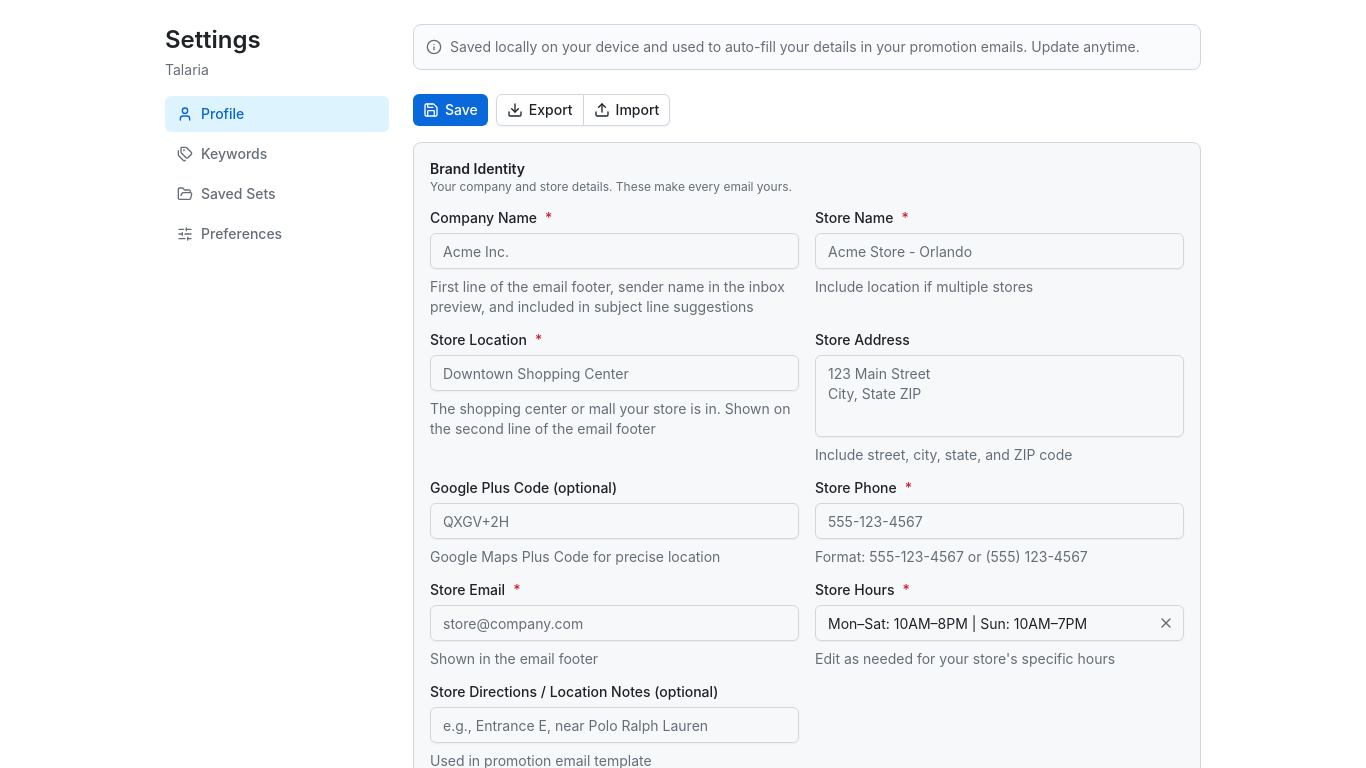
Test: ProfileSettingsPage › opens import dialog when Import button is clicked
The image size is (1366, 768).
Click the button "Import" at (627,110), box [584,94,670,126]
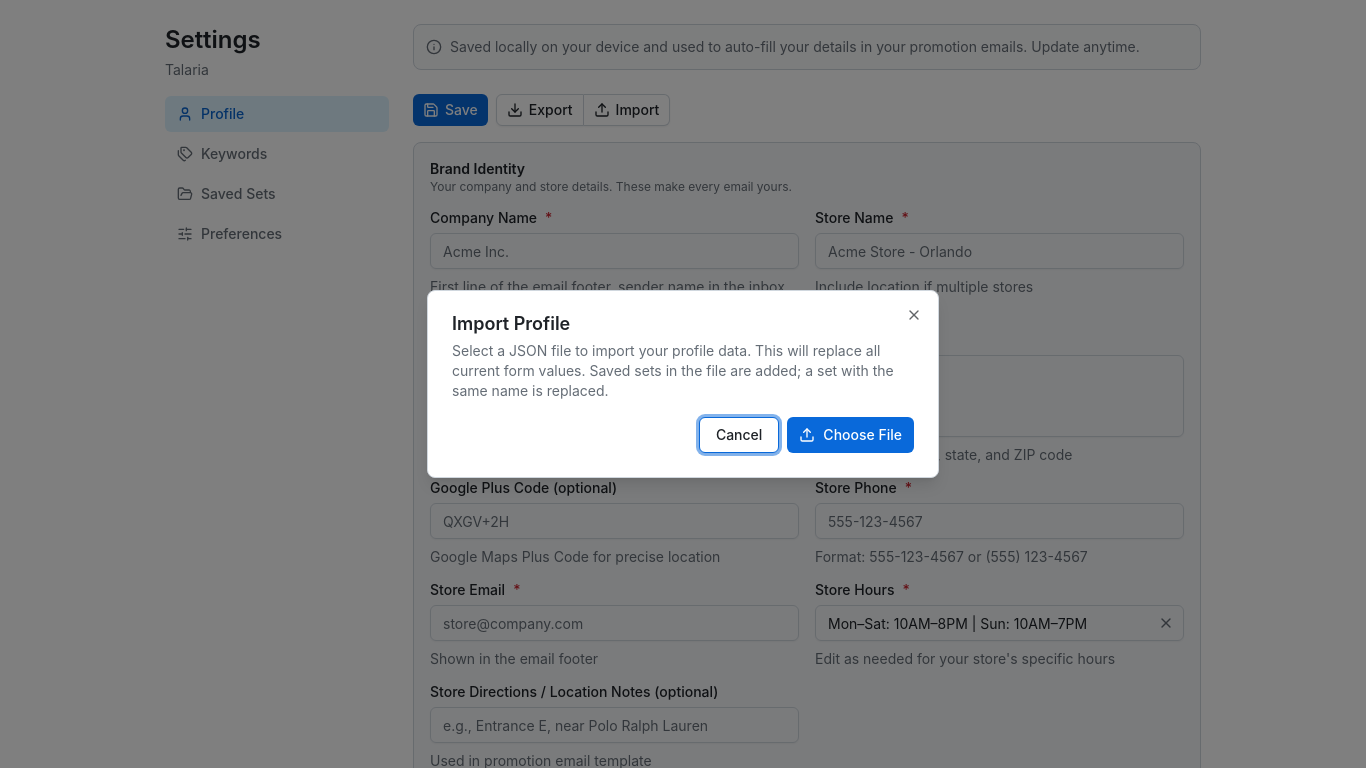
Now the heading "Import Profile" is shown, box [452,313,570,334]
Now the text "Select a JSON file" is shown, box [452,342,894,399]
